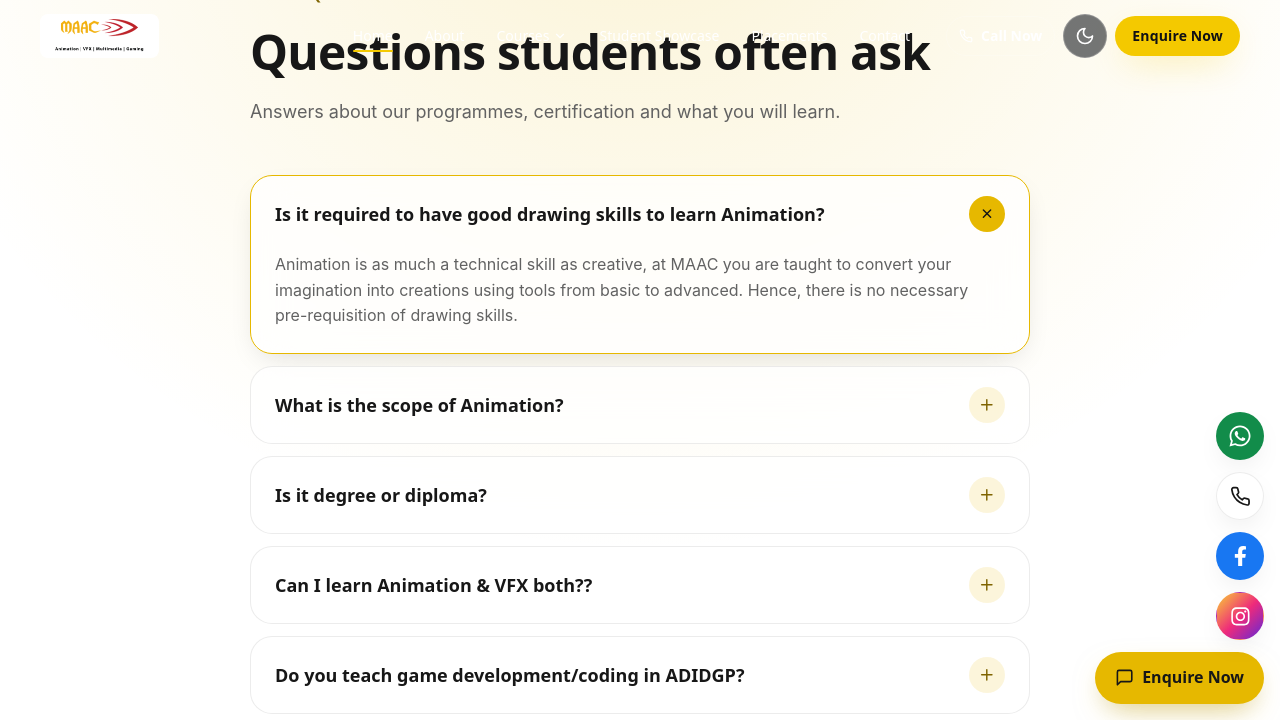
Scenario: homepage sections › the FAQ accordion shows existing FAQs and toggles answers
(page scrolled)
Expected: the text "Animation is as much a technical skill as creative, at MAAC you are taught to convert your imagination into creations us" is shown, [275,254,968,325]
Click the button "What is the scope of Animation?": (419, 405) [251,367,1029,443]
(page scrolled)
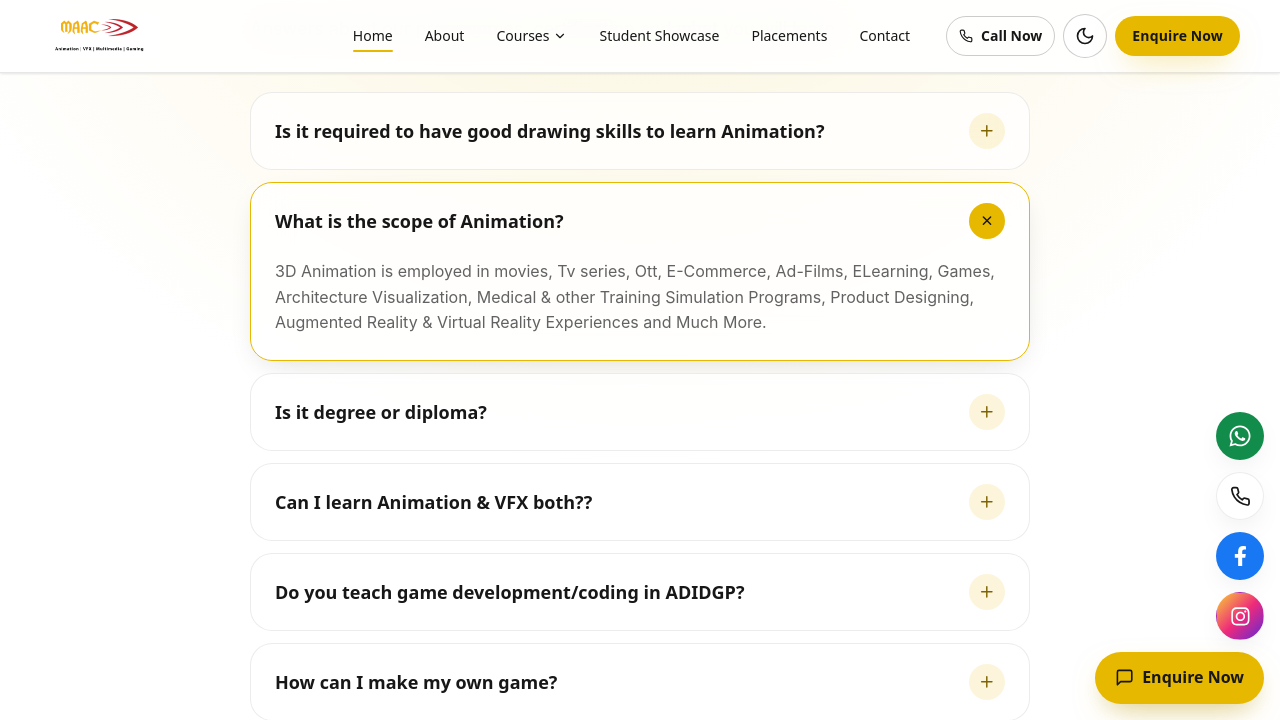
Now the button "What is the scope of Animation?" is expanded, box [251,183,1029,259]
Now the element named "What is the scope of Animation?" is shown, box [251,259,1029,360]
